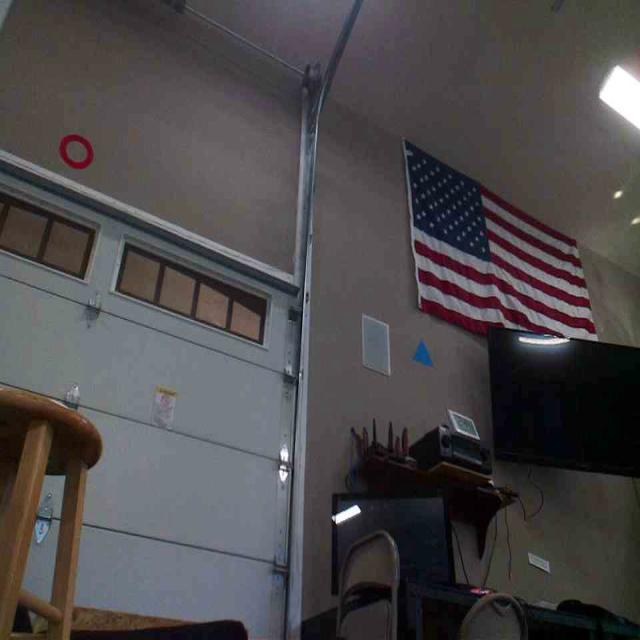ring_red: (60, 132, 94, 169)
triangle_blue: (410, 337, 437, 368)
